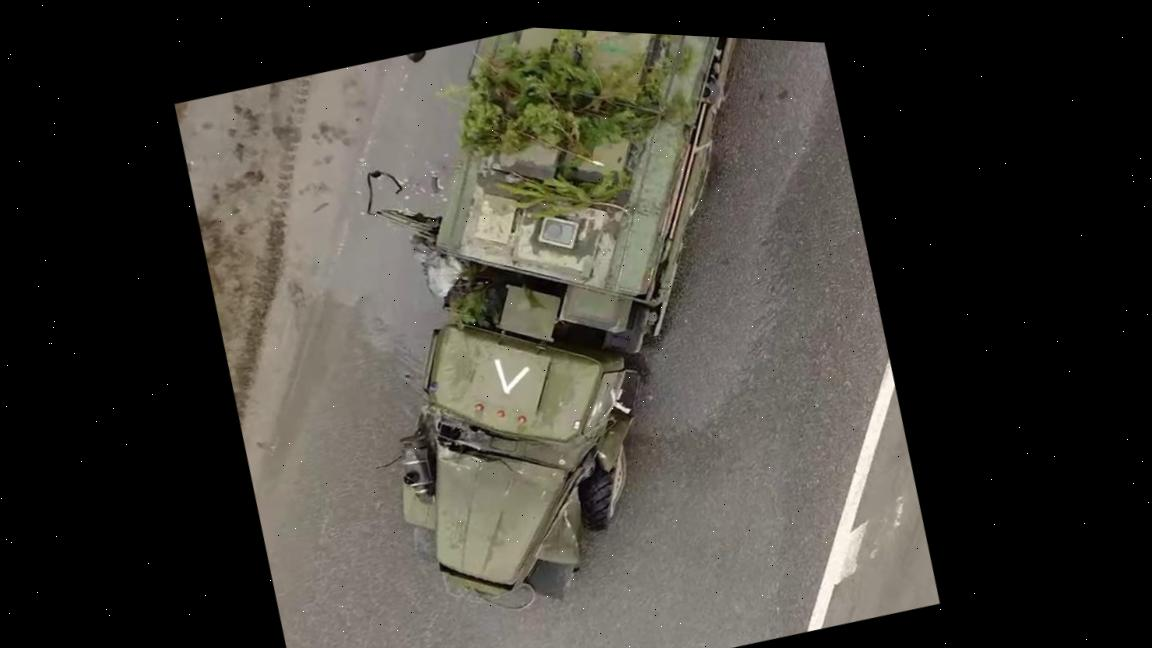truck: (274, 16, 932, 648)
